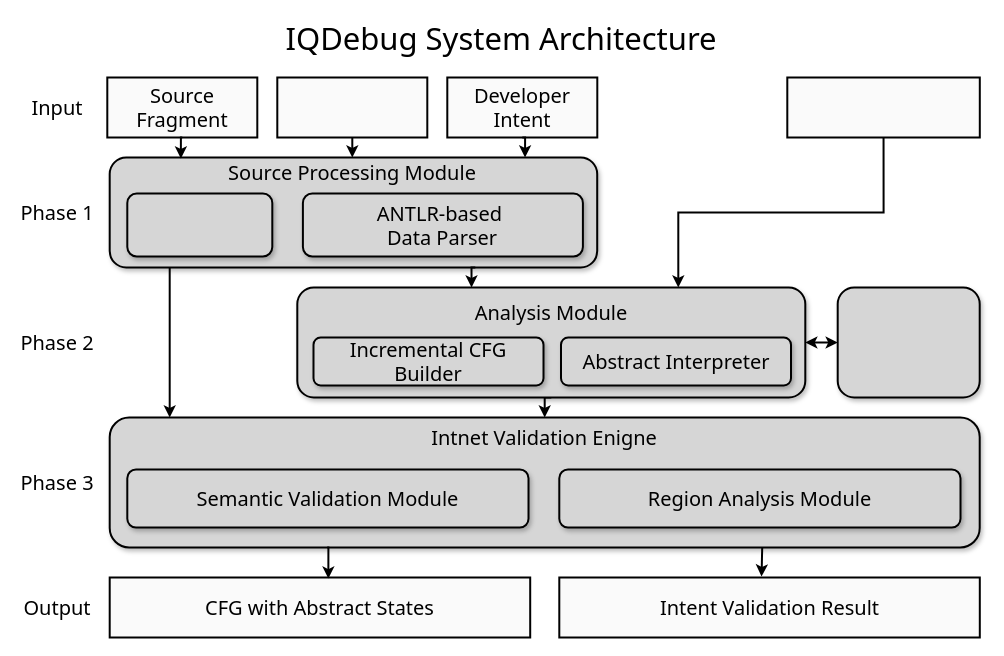
Some shapes in this 1004 by 656 pixel diagram are drawn without their labels. The shapes that lost their labels are listed below. From the top down, each one's centre as x and y in pixels, then its label:
point 352,107: Debugging Inputs
point 883,107: Dependency CFGs
point 200,226: Solidity Compiler
point 909,343: State Snapshot Manager
